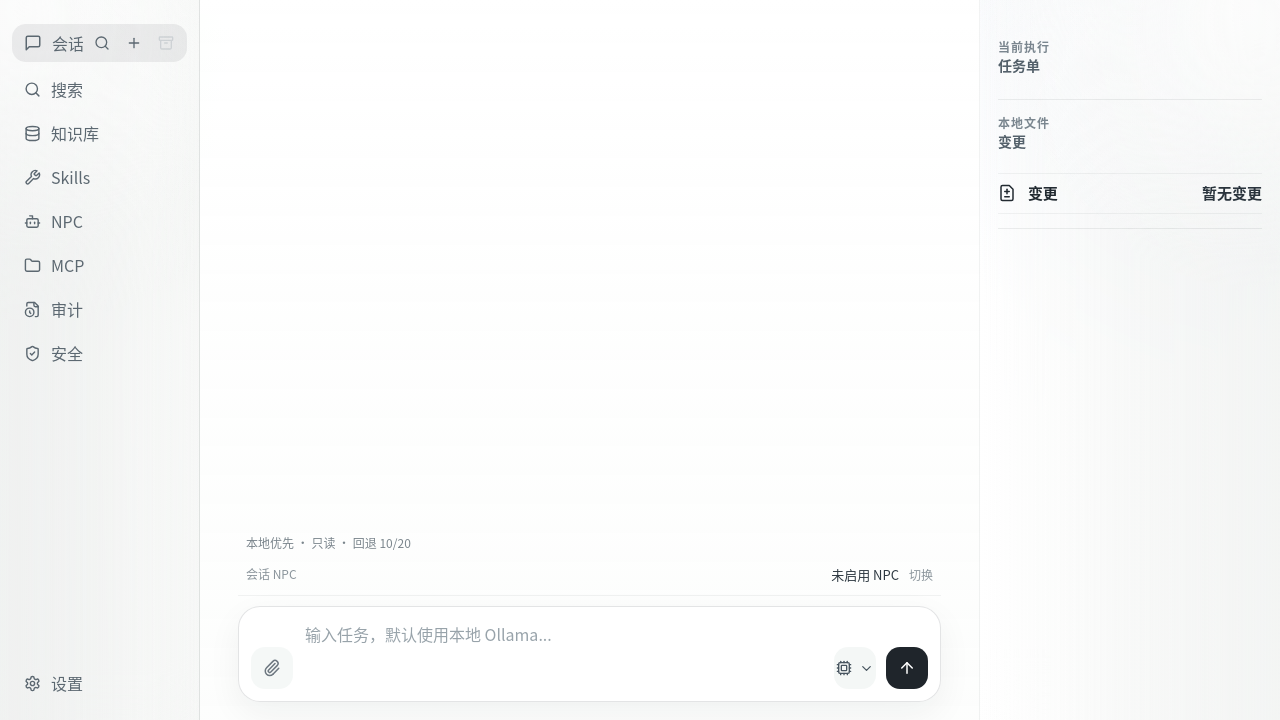
Test: App continuation flow › continues from the latest local RAG shell handoff preview without repeating the full request
Expected: the button named "选择模型：qwen2.5-coder:7b" is shown, [834,647,876,689]
Expected: the button with class "send-button" is shown, [886,647,928,689]
Type "review local shell permission rules and preview the next safe shell step to create a temp-output folder" into the text box with placeholder "输入任务，默认使用本地 Ollama...". click: (562, 654)
box: [303,619,822,689]
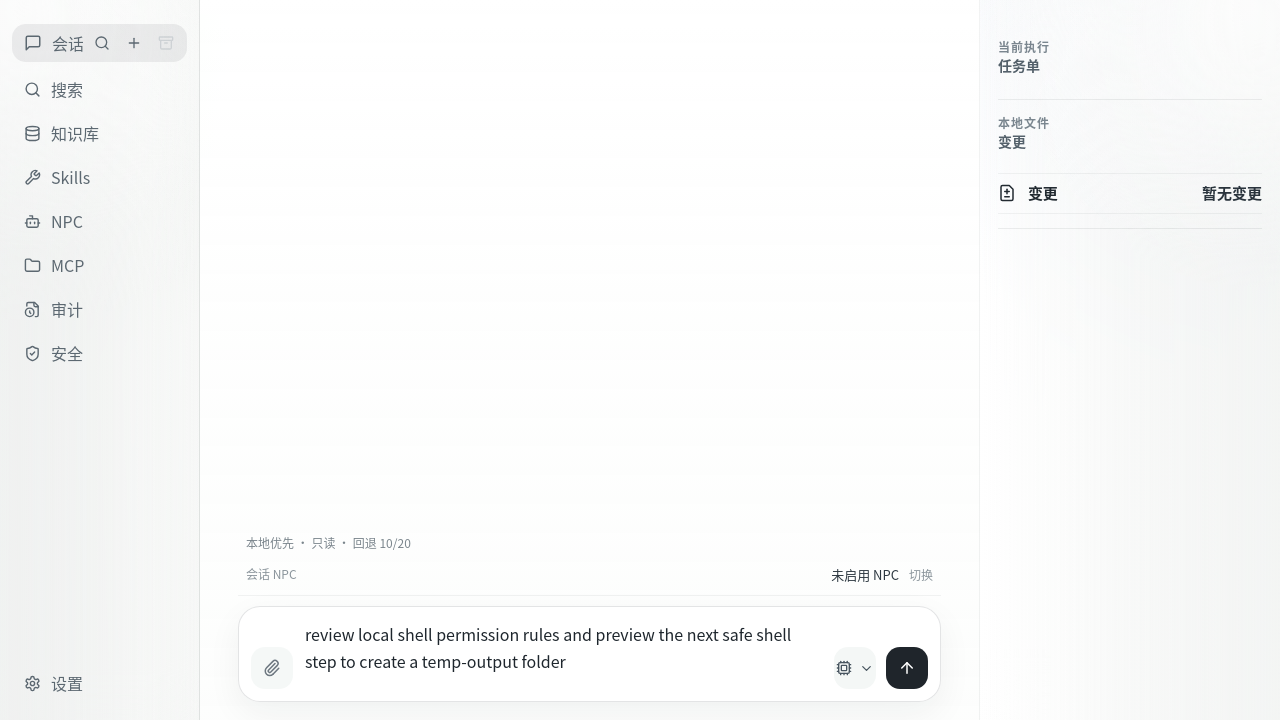
Click the button with class "send-button". click: (907, 668)
box: [886,647,928,689]
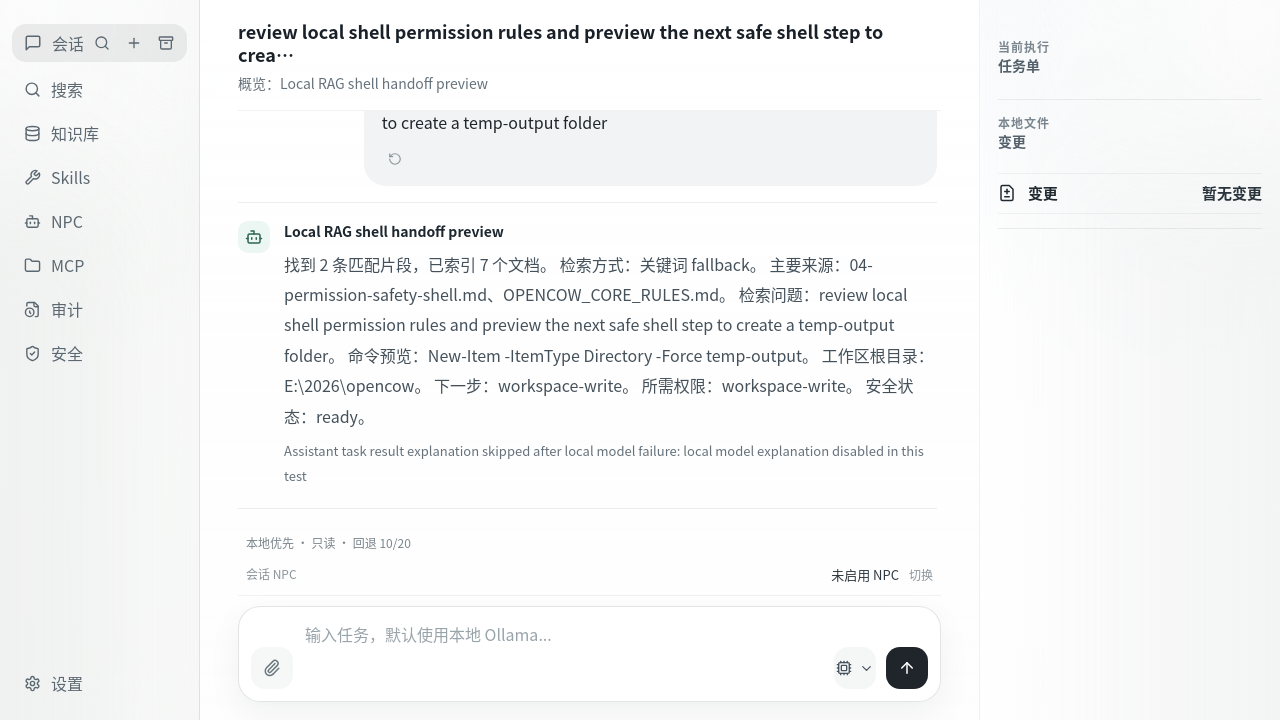
Expected: the text "概览：Local RAG shell handoff preview" is shown, [238,73,488,93]
Type "continue" into the text box with placeholder "输入任务，默认使用本地 Ollama...". click: (562, 654)
box: [303,619,822,689]
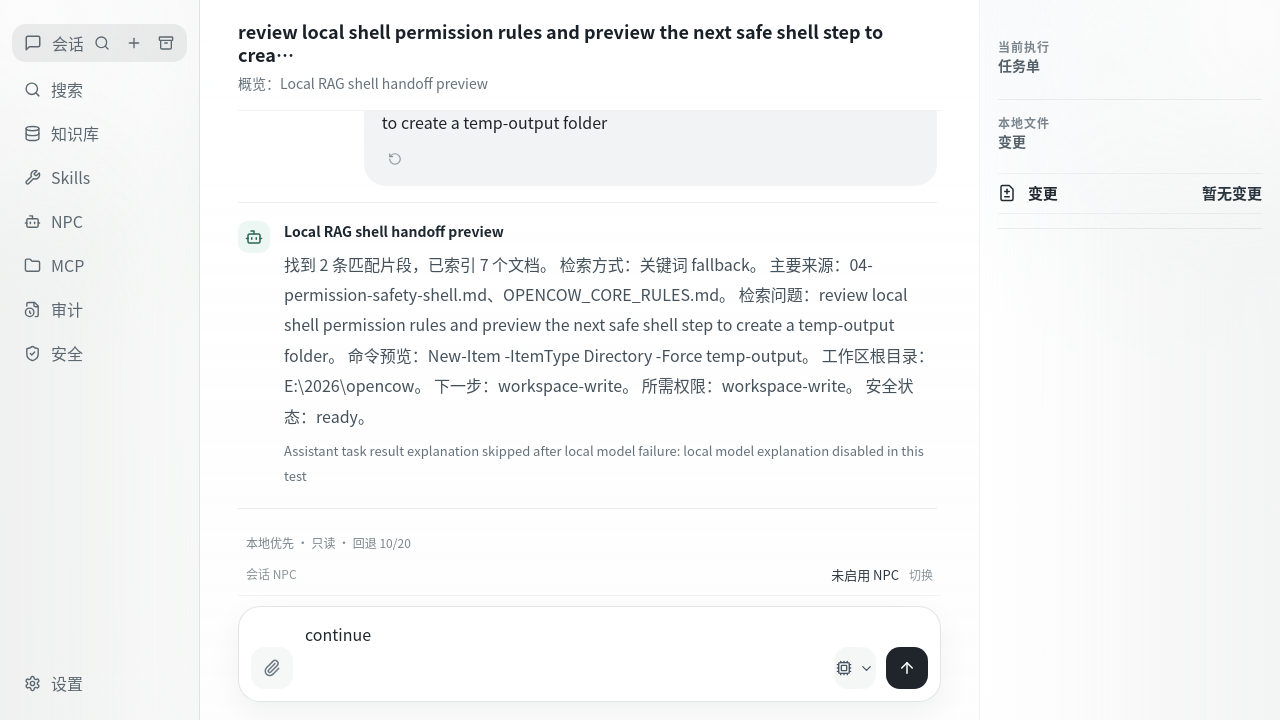
Click the button with class "send-button". click: (907, 668)
box: [886,647,928,689]
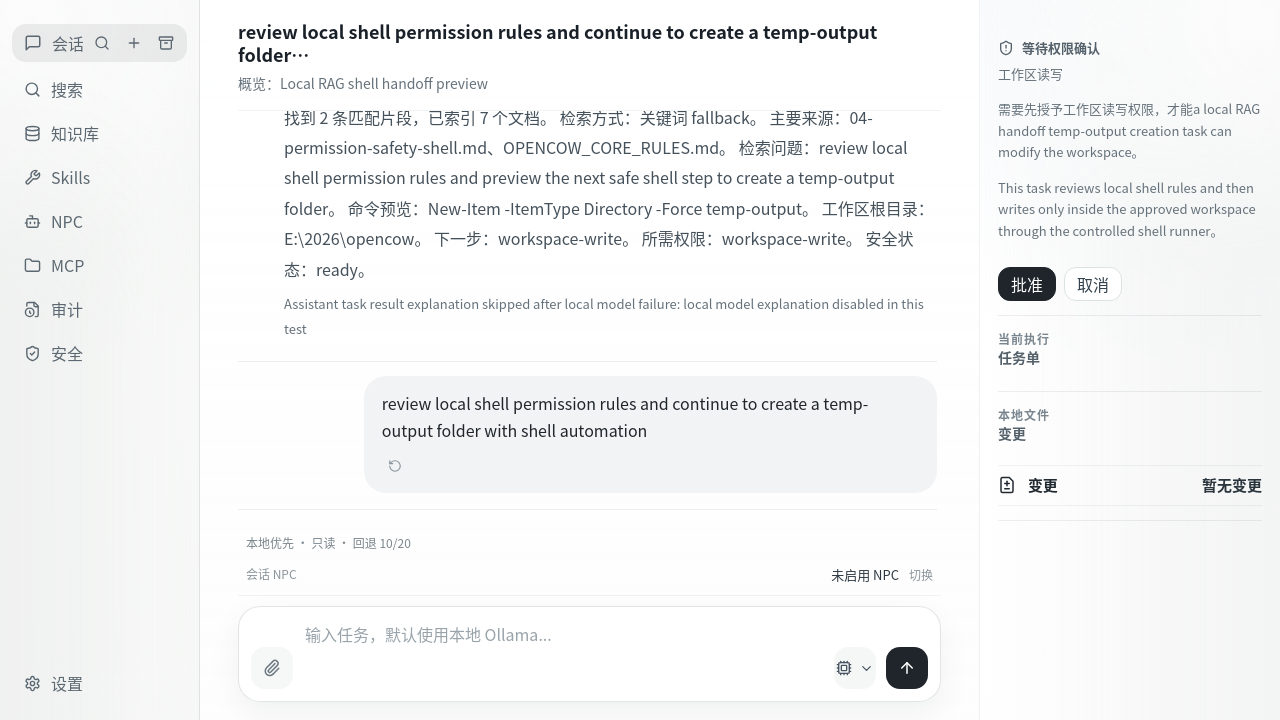
Expected: the text "等待权限确认" is shown, [1022,38,1100,57]
Click the button "批准". click: (1027, 284)
box: [998,267,1056,301]
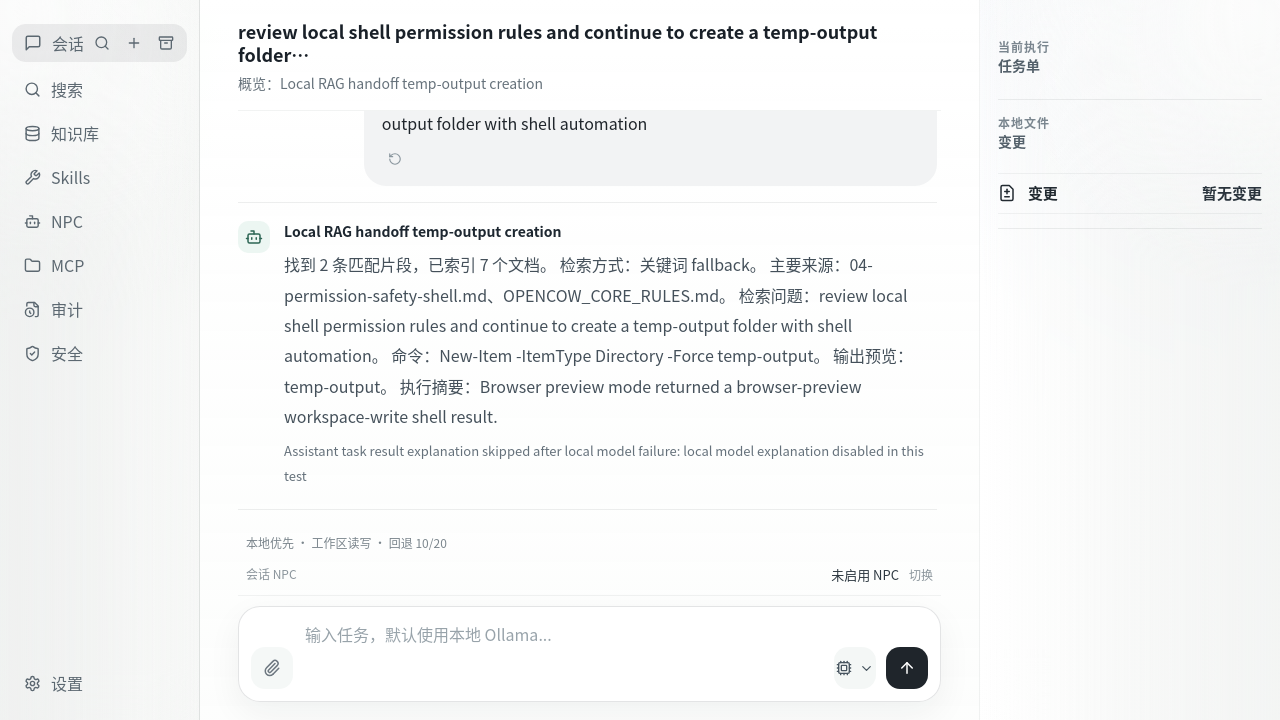
Expected: the 1st heading is shown, [238,18,877,67]
Expected: the text "等待权限确认" is gone
